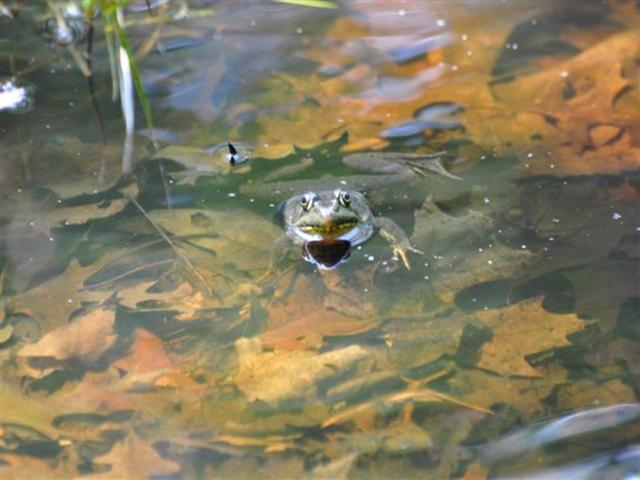frog: (248, 147, 440, 318)
